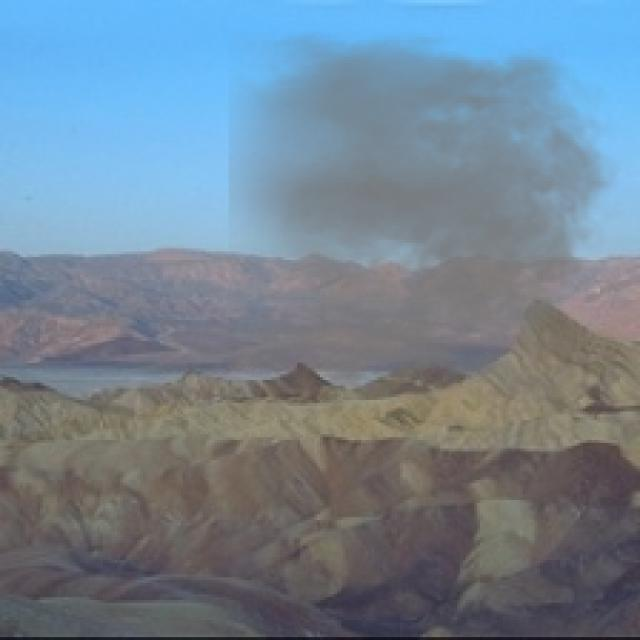smoke: (228, 31, 632, 403)
